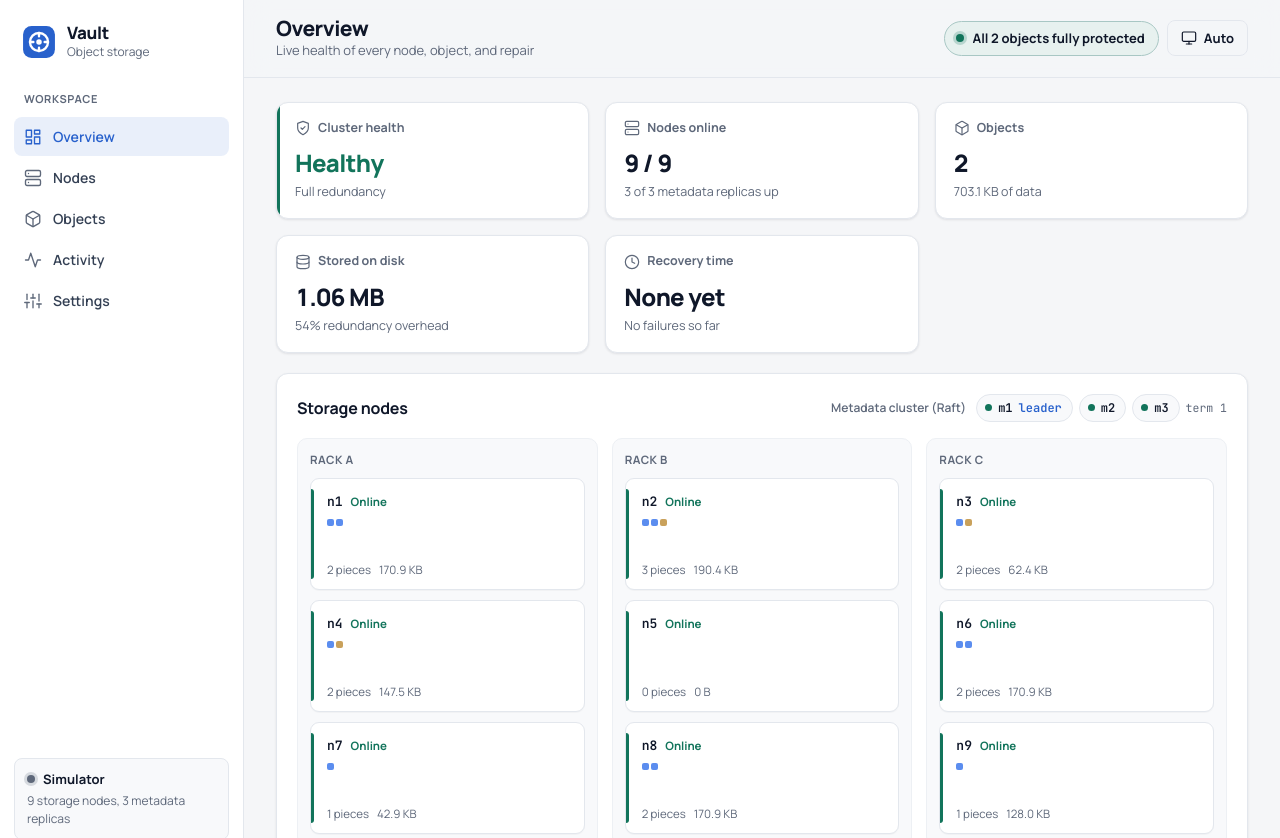
Test: <App /> › crashing a selected node walks it to "Declared dead" and the cluster heals
This screenshot has width=1280, height=838.
Click the button "n6 Online 2 pieces 170.9 KB": [998, 623] box [939, 600, 1214, 712]
(page scrolled)
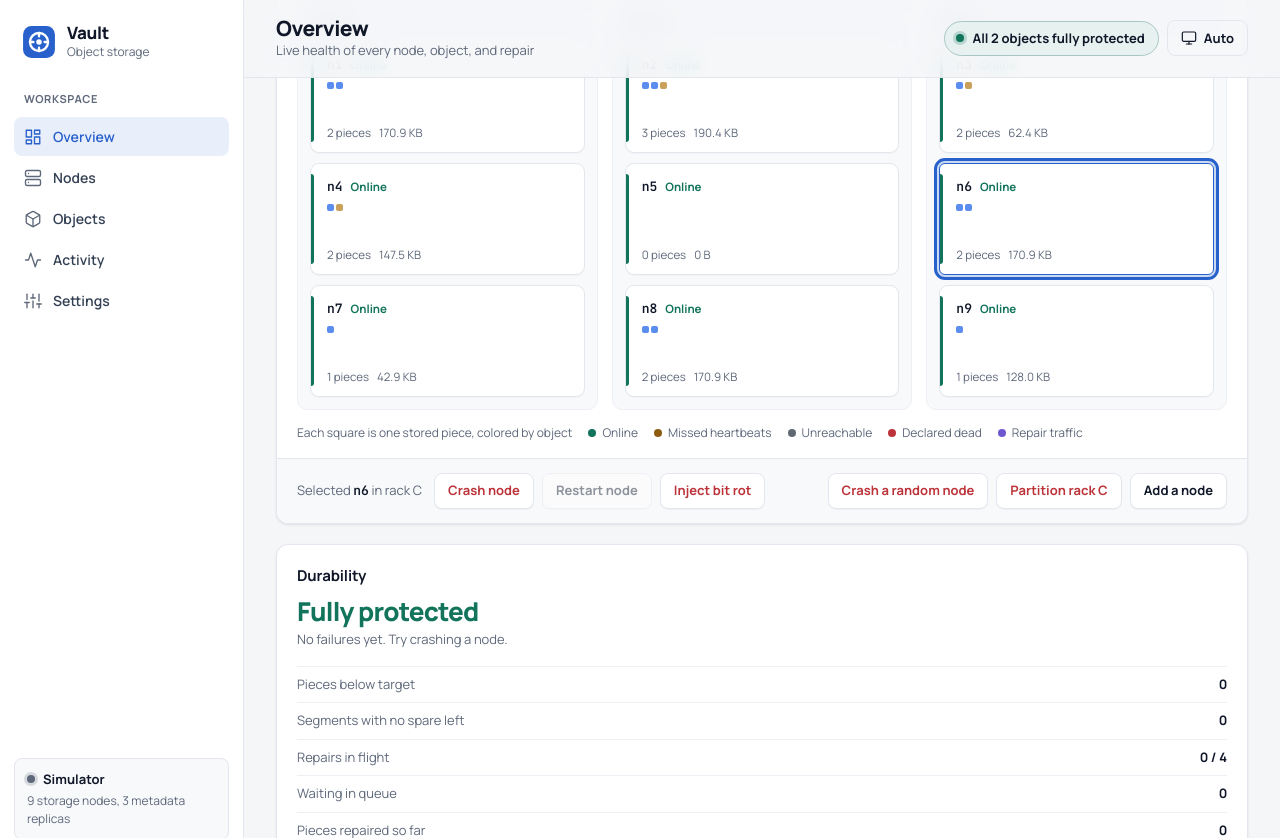
Click the button "Crash node": [484, 491] box [434, 473, 534, 509]
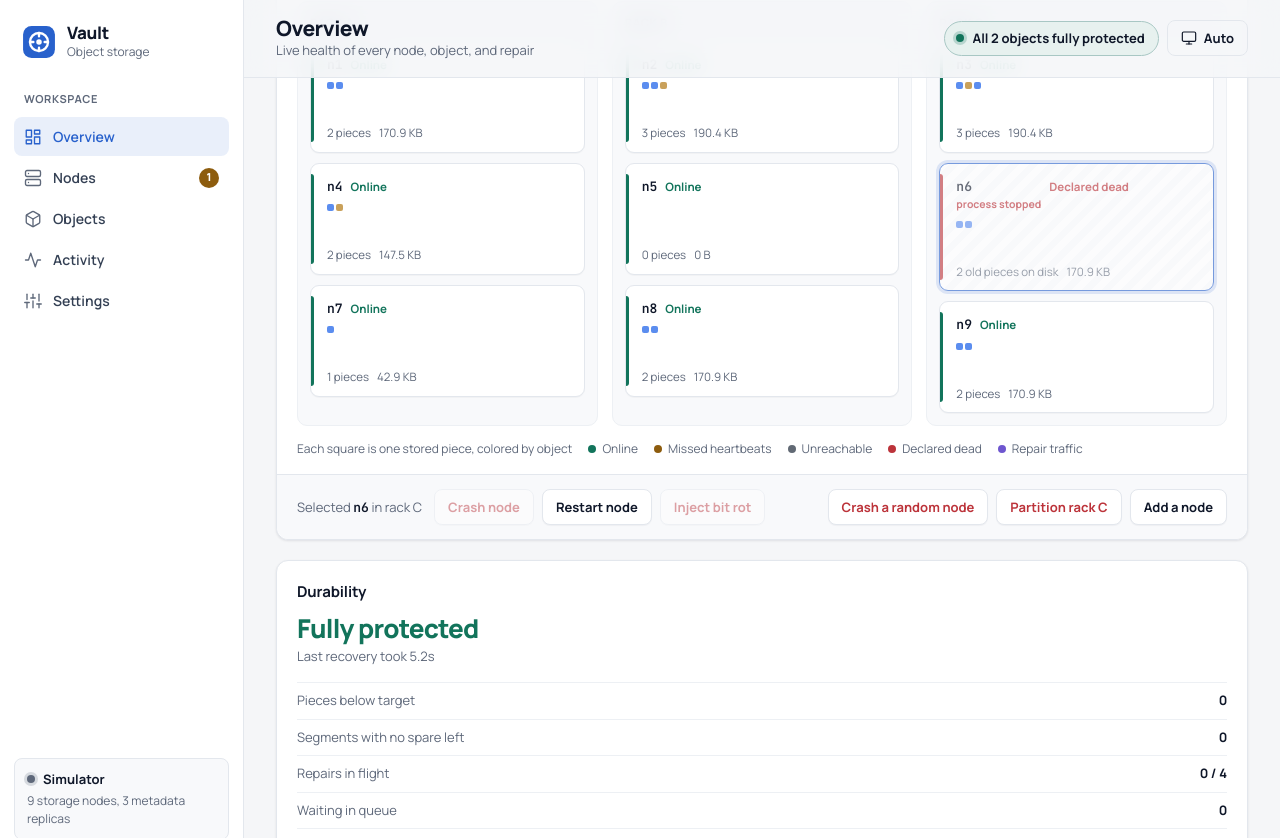
Expected: the text "All 2 objects fully protected" is shown, [972, 29, 1145, 48]
Expected: the button "Restart node" is enabled, [542, 489, 652, 525]
Expected: the text "Last recovery took 5.2s" is shown, [297, 646, 434, 664]
